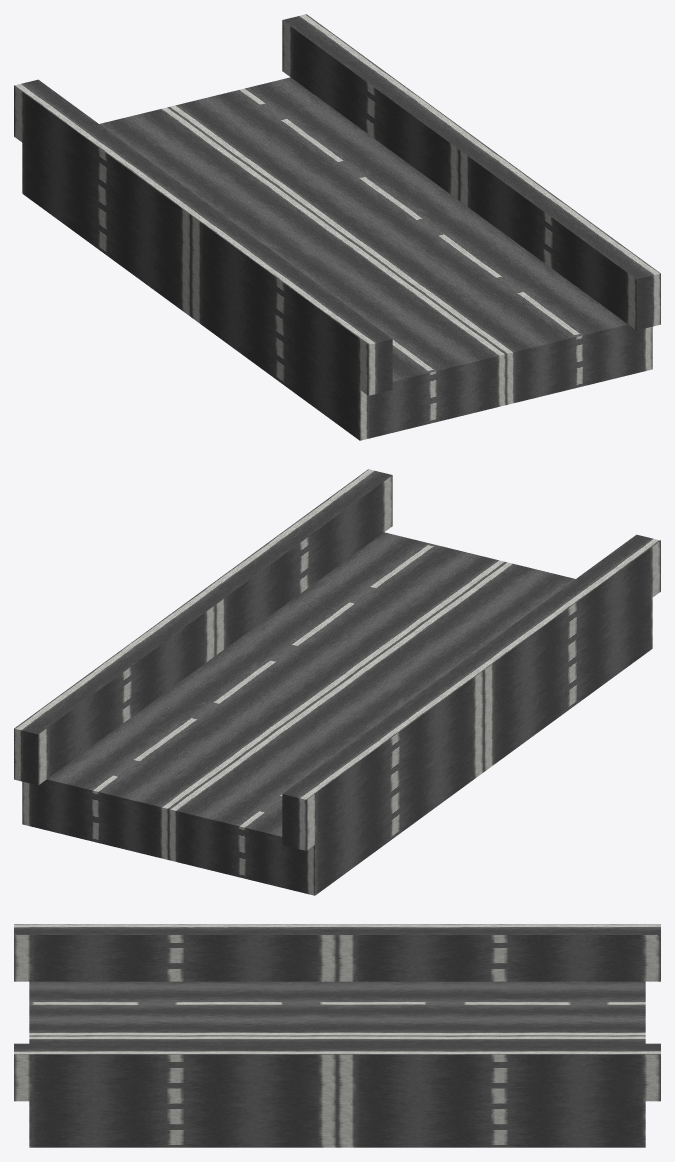
The model's file is C-Number Piece.obj.
3 renders of one model, top to bottom at view 1: azimuth 30°, elevation 25°; view 2: azimuth 150°, elevation 25°; view 3: azimuth 270°, elevation 25°, orthographic. The views are drawn at different scales.
Parts seen in each view (by area): view 1: polySurface5; view 2: polySurface5; view 3: polySurface5.
Part boxes in pixels (bbox=[...]): polySurface5: bbox=[14, 14, 660, 440]; polySurface5: bbox=[14, 469, 660, 895]; polySurface5: bbox=[14, 924, 660, 1147].
Bounding box in the file's own units: 472 × 157 × 991.
Materials: 1 (1 with a texture image).
